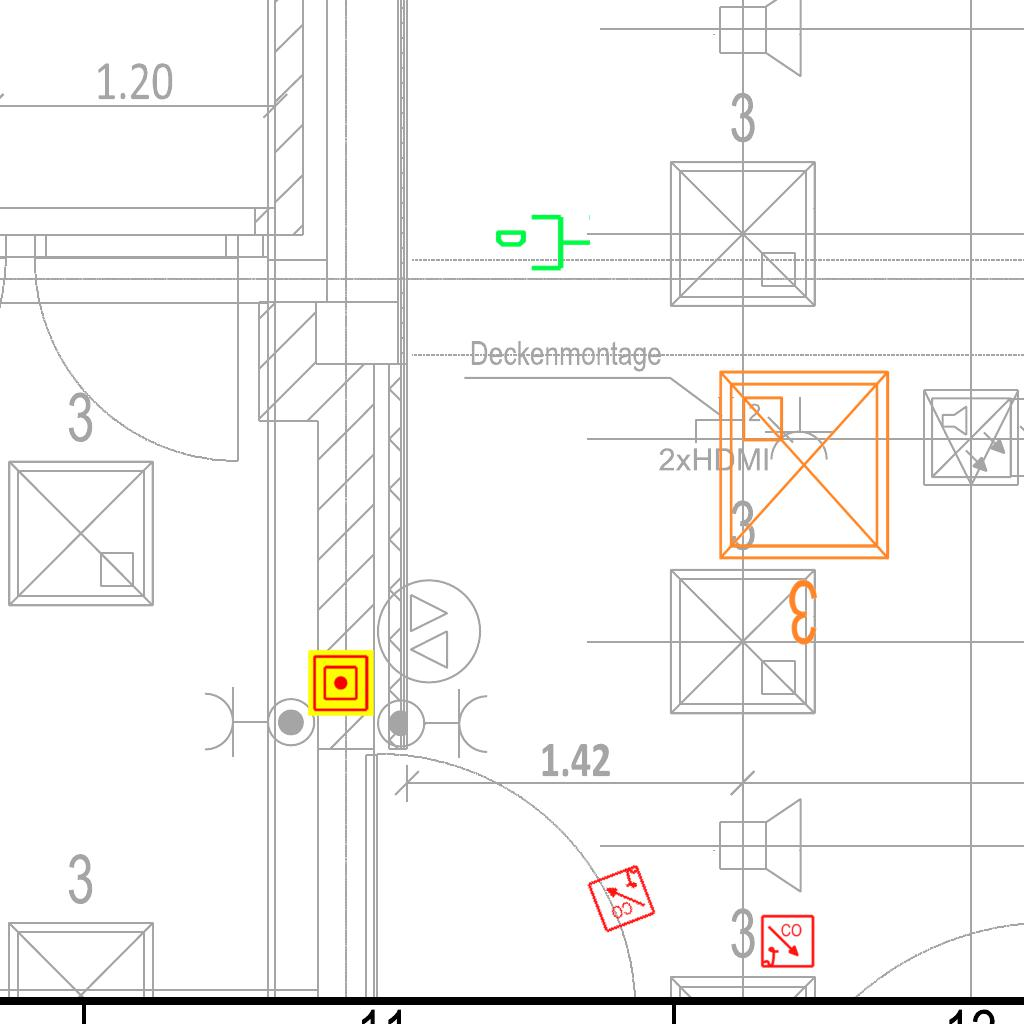Datenanschluss_einfach: (493, 210, 593, 279)
Einbaudownlights_LED_Konferenzraeume: (704, 356, 912, 656)
NAM-Nichtautomatischer_Melder: (308, 650, 374, 716)
ROA_Rauchmelder_optisch_mit_Signalgeber_(Sockelsirene): (584, 861, 658, 935), (760, 914, 816, 970)
